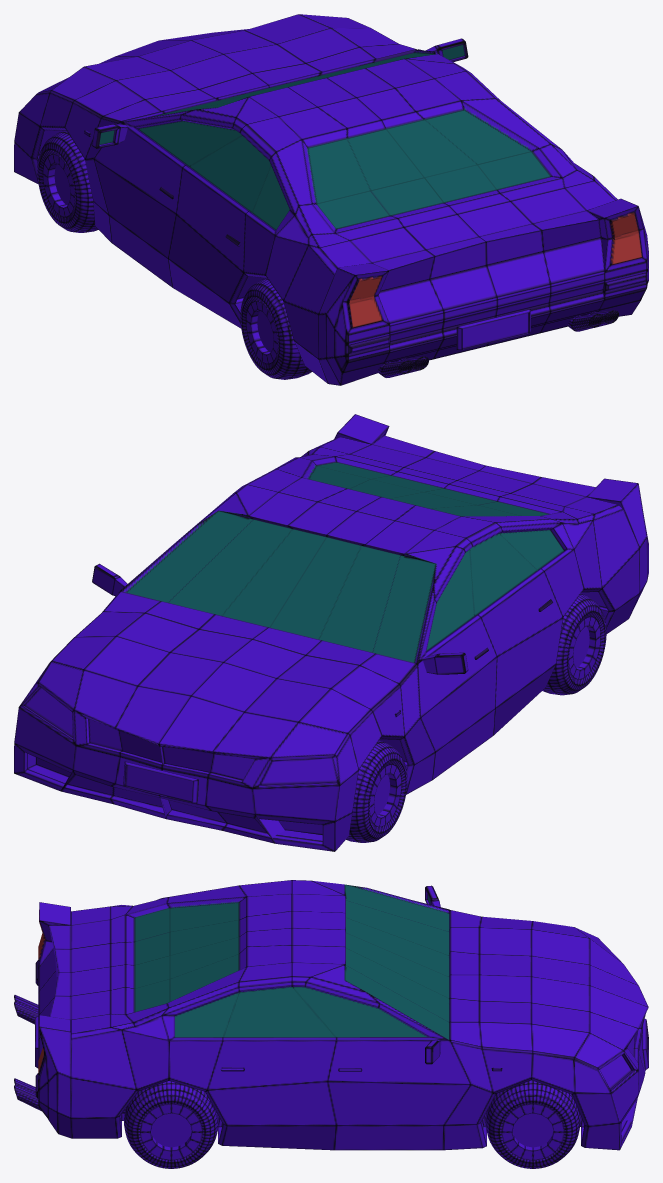
File: car.gltf
The picture shows the model from 3 angles, top to bottom: view 1: azimuth 30°, elevation 25°; view 2: azimuth 150°, elevation 25°; view 3: azimuth 270°, elevation 25°; orthographic projection. The views are drawn at different scales.
Visible parts, largest first — view 1: car; view 2: car; view 3: car.
Boxes of the visible parts, <box> form: car: <box>14,14,648,385</box>; car: <box>14,414,648,851</box>; car: <box>14,880,648,1168</box>.
Size of what is drawn, in the model's own units: 2.82 by 1.4 by 4.6.
1 material, 1 textured.
